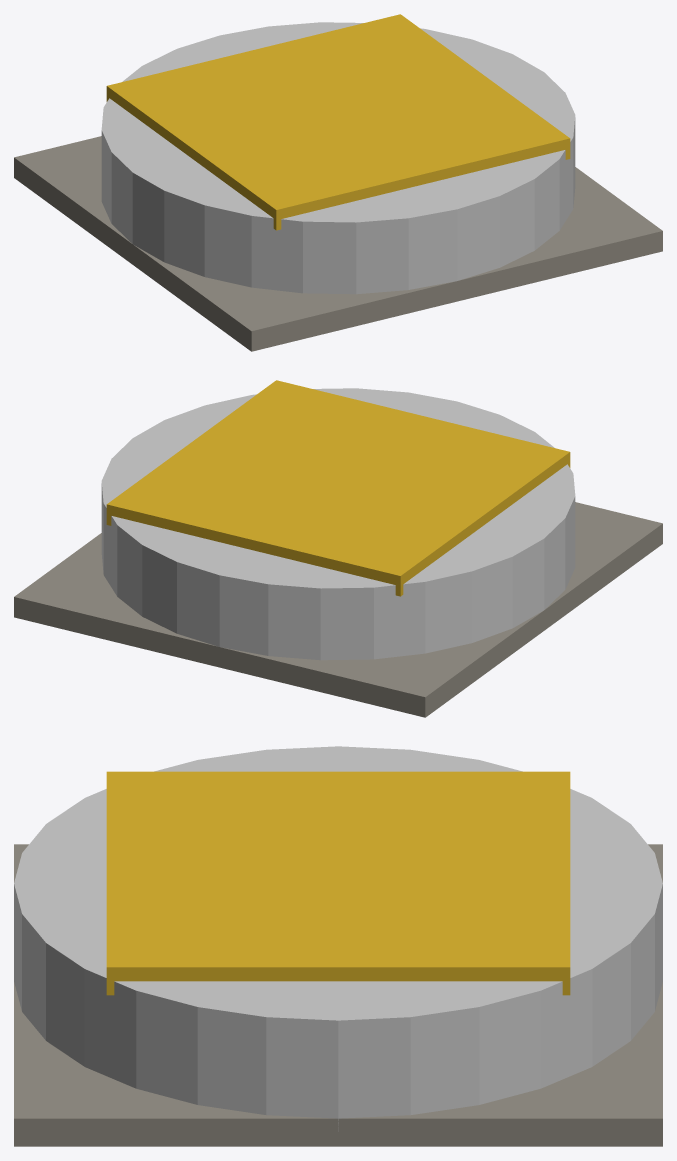
File: maintenance_hatch.obj
3 views of the same model, one above another, from view 1: azimuth 30°, elevation 25°; view 2: azimuth 150°, elevation 25°; view 3: azimuth 270°, elevation 25° (orthographic). The views are drawn at different scales.
Parts seen in each view (by area): view 1: maintenance_hatch; view 2: maintenance_hatch; view 3: maintenance_hatch.
Part boxes in pixels (bbox=[...]): maintenance_hatch: bbox=[14, 14, 662, 351]; maintenance_hatch: bbox=[14, 380, 662, 717]; maintenance_hatch: bbox=[14, 746, 662, 1146].
Bounding box in the file's own units: 0.84 × 0.2 × 0.84.
